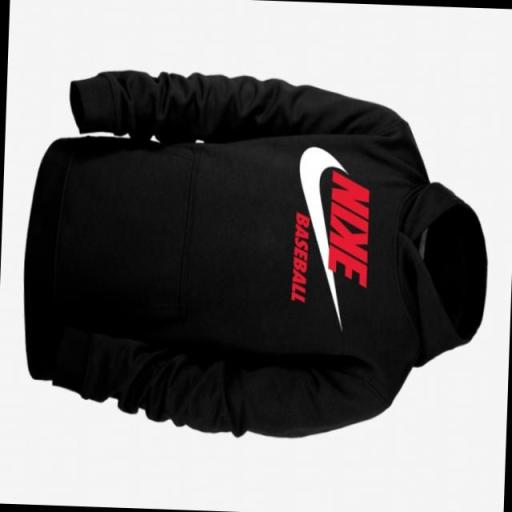Nike: (294, 142, 340, 294), (324, 170, 370, 288)
